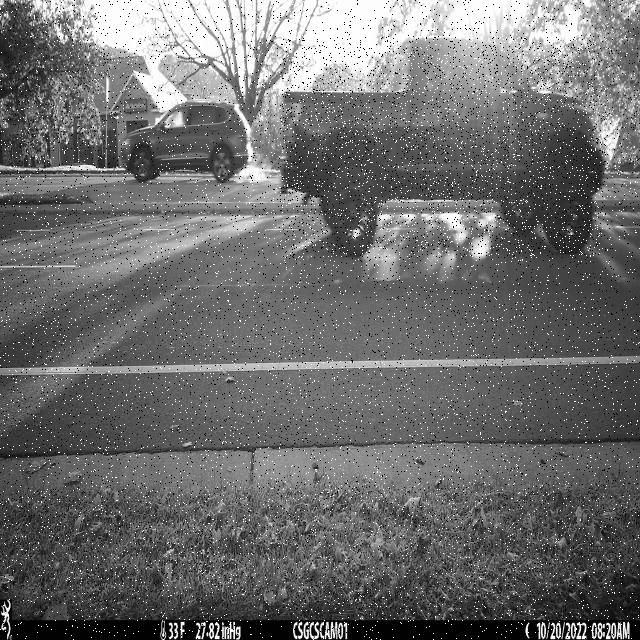Pickup: (280, 37, 608, 258)
